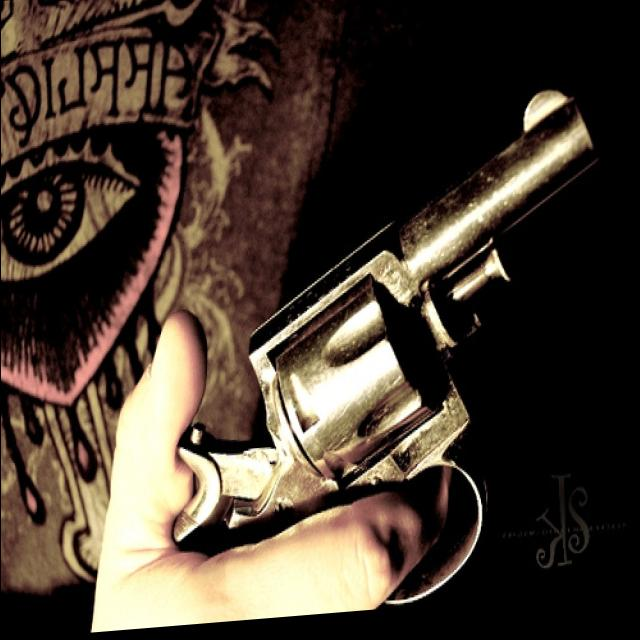handgun: (174, 78, 603, 624)
